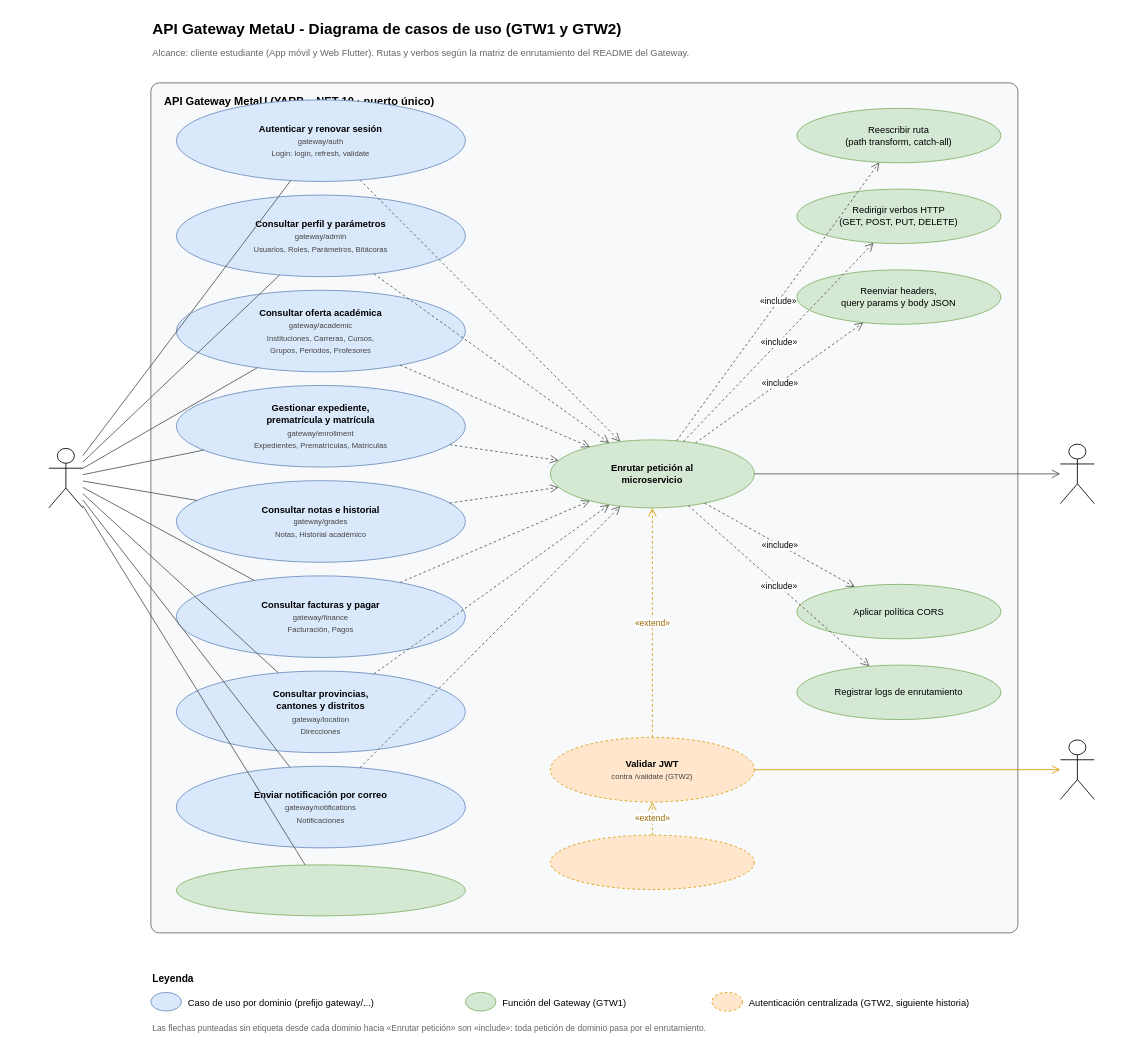
This 1140x1052 diagram has some shape labels left out. The box of each missing label's shape, as (x1, y1, x2, y2) in pixels:
Consultar estado del Gateway Endpoint de salud: (176, 864, 465, 916)
Estudiante (App móvil / Web Flutter): (48, 448, 83, 508)
Microservicio Login (/validate): (1060, 739, 1094, 799)
Microservicios MetaU (Plesk): (1060, 443, 1094, 504)
Responder 401 Unauthorized (token inválido o expirado): (550, 834, 754, 890)
